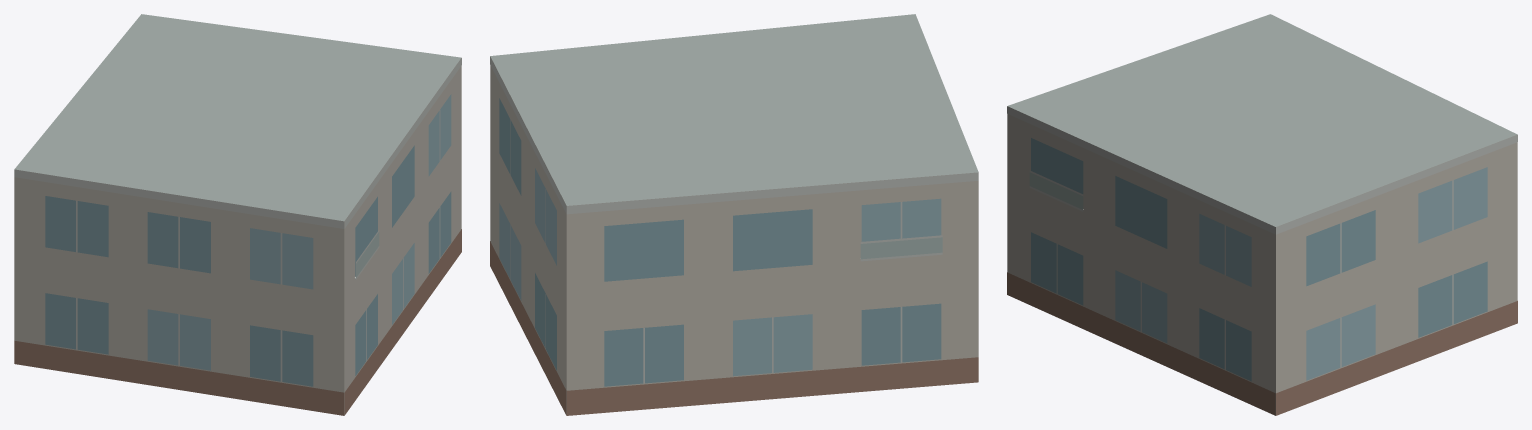
File: survey-upis-32627732.glb
3 views of the same model, side by side, from view 1: azimuth 30°, elevation 25°; view 2: azimuth 150°, elevation 25°; view 3: azimuth 270°, elevation 25° (orthographic). The views are drawn at different scales.
Parts seen in each view (by area): view 1: survey-upis-32627732.tmp; view 2: survey-upis-32627732.tmp; view 3: survey-upis-32627732.tmp.
Part boxes in pixels (box(x1,y1,x2,y2)): survey-upis-32627732.tmp: box(14, 14, 461, 415); survey-upis-32627732.tmp: box(490, 14, 978, 415); survey-upis-32627732.tmp: box(1007, 14, 1517, 415).
Bounding box in the file's own units: 14.78 × 6.1 × 14.96.
